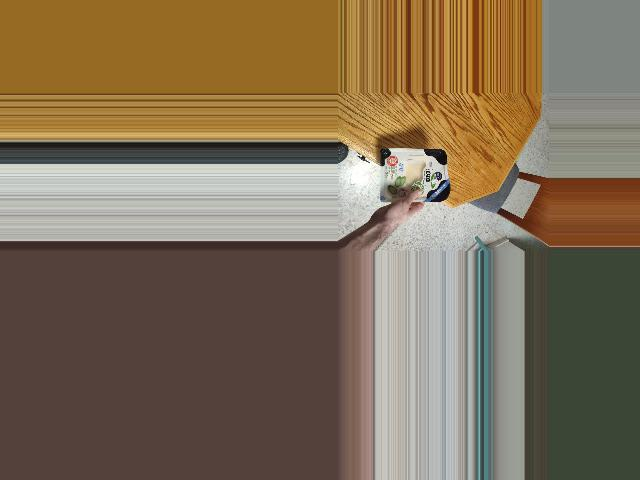cheese: (375, 149, 450, 206)
